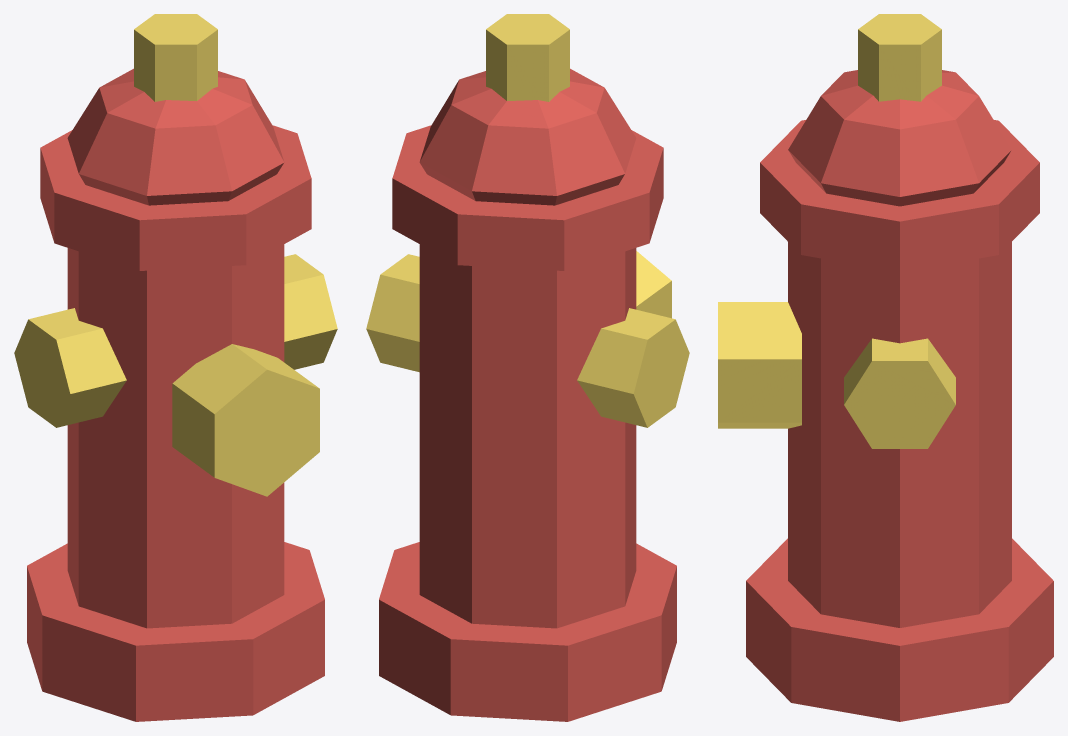
File: hydrant.glb
3 renders of one model, left to right at view 1: azimuth 30°, elevation 25°; view 2: azimuth 150°, elevation 25°; view 3: azimuth 270°, elevation 25°, orthographic.
Visible parts, largest first — view 1: hydrant; view 2: hydrant; view 3: hydrant.
Part boxes in pixels (x1,y1,x2,y2): hydrant: [14, 14, 337, 721]; hydrant: [366, 14, 689, 721]; hydrant: [718, 14, 1053, 721].
Bounding box in the file's own units: 0.44 × 0.99 × 0.48.
